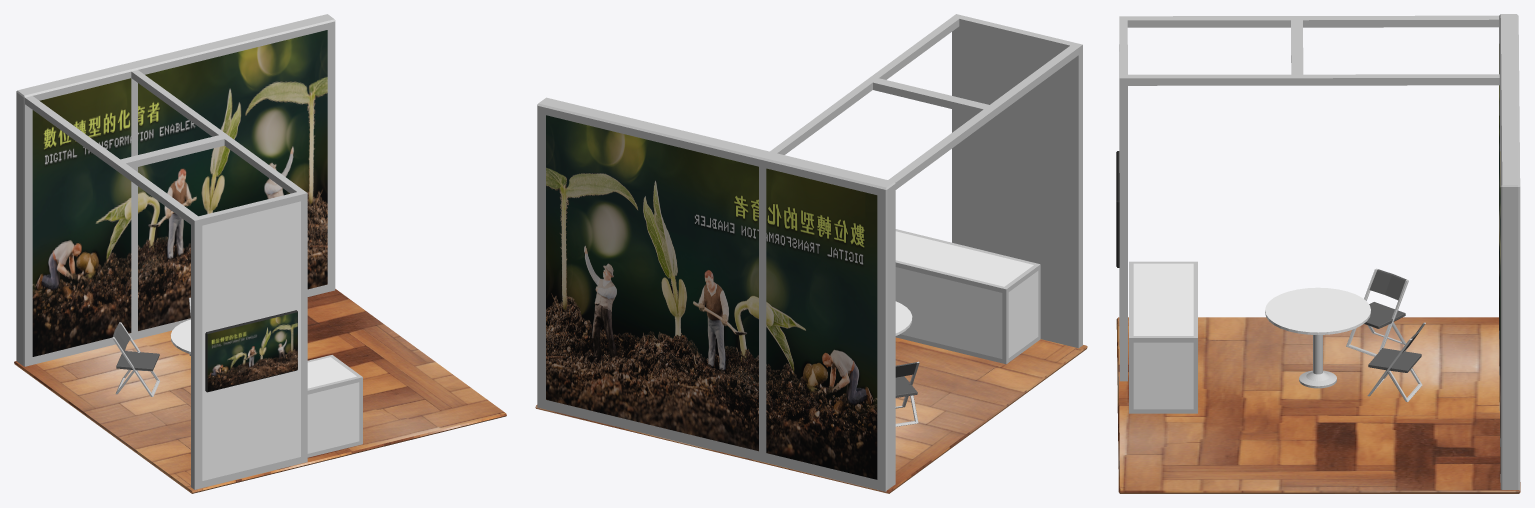
Rendered from stage_boothSet.fbx.
3 views of the same model, side by side, from view 1: azimuth 30°, elevation 25°; view 2: azimuth 150°, elevation 25°; view 3: azimuth 270°, elevation 25° (orthographic). The views are drawn at different scales.
Visible parts, largest first — view 1: booth_stage, mainTV, BoxTable, Chair2; view 2: booth_stage, BoxTable, Chair2; view 3: booth_stage, BoxTable, Table, Chair2, Chair1, mainTV.
Boxes of the visible parts, x1,y1,x2,y2 form: booth_stage: (14,14,506,493); mainTV: (205,310,297,392); BoxTable: (307,355,362,457); Chair2: (112,322,159,396); booth_stage: (535,14,1087,493); BoxTable: (895,229,1040,364); Chair2: (895,361,919,426); booth_stage: (1116,14,1520,493); BoxTable: (1129,261,1197,413); Table: (1265,287,1370,388); Chair2: (1346,268,1408,356); Chair1: (1367,322,1425,402); mainTV: (1116,151,1119,267).
Bounding box in the file's own units: 323 × 267 × 317.
